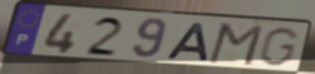2: (82, 16, 127, 58)
4: (42, 12, 77, 55)
9: (130, 17, 169, 61)
A: (162, 21, 211, 63)
G: (256, 26, 302, 68)
M: (205, 21, 267, 67)
